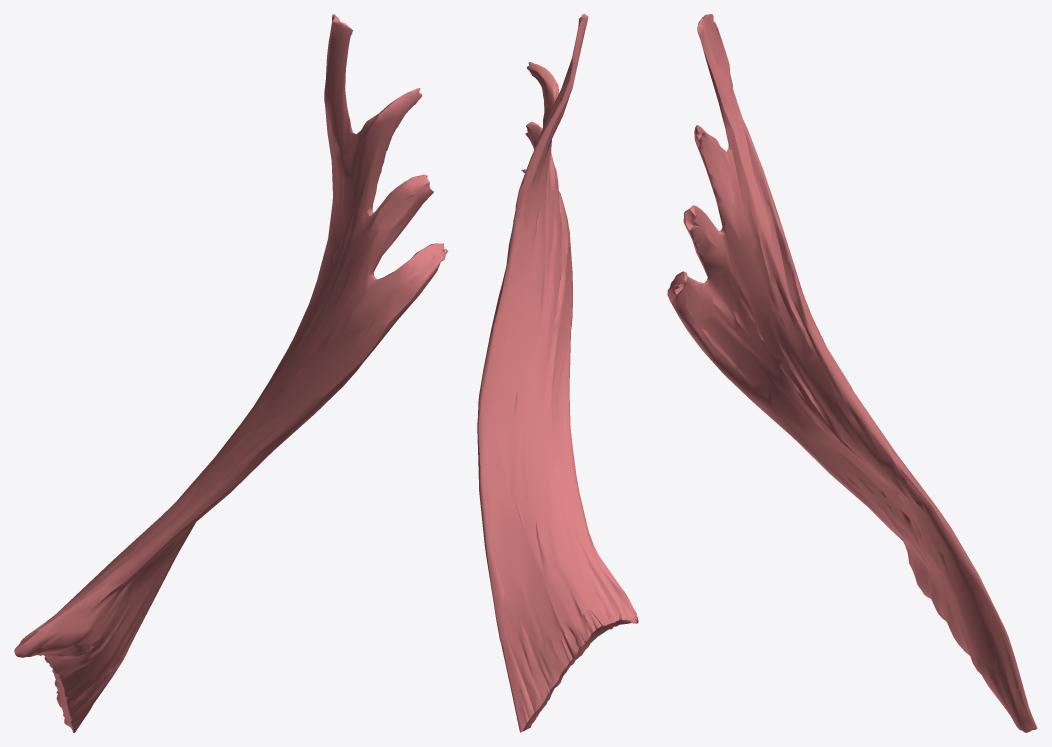
3 views of the same model, side by side, from view 1: azimuth 30°, elevation 25°; view 2: azimuth 150°, elevation 25°; view 3: azimuth 270°, elevation 25° (orthographic). The views are drawn at different scales.
Visible parts, largest first — view 1: FJ1532; view 2: FJ1532; view 3: FJ1532.
Part boxes in pixels (x1,y1,x2,y2): FJ1532: (14,14,448,732); FJ1532: (477,14,638,732); FJ1532: (667,14,1037,732).
Bounding box in the file's own units: 0.0597 × 0.1584 × 0.07.
